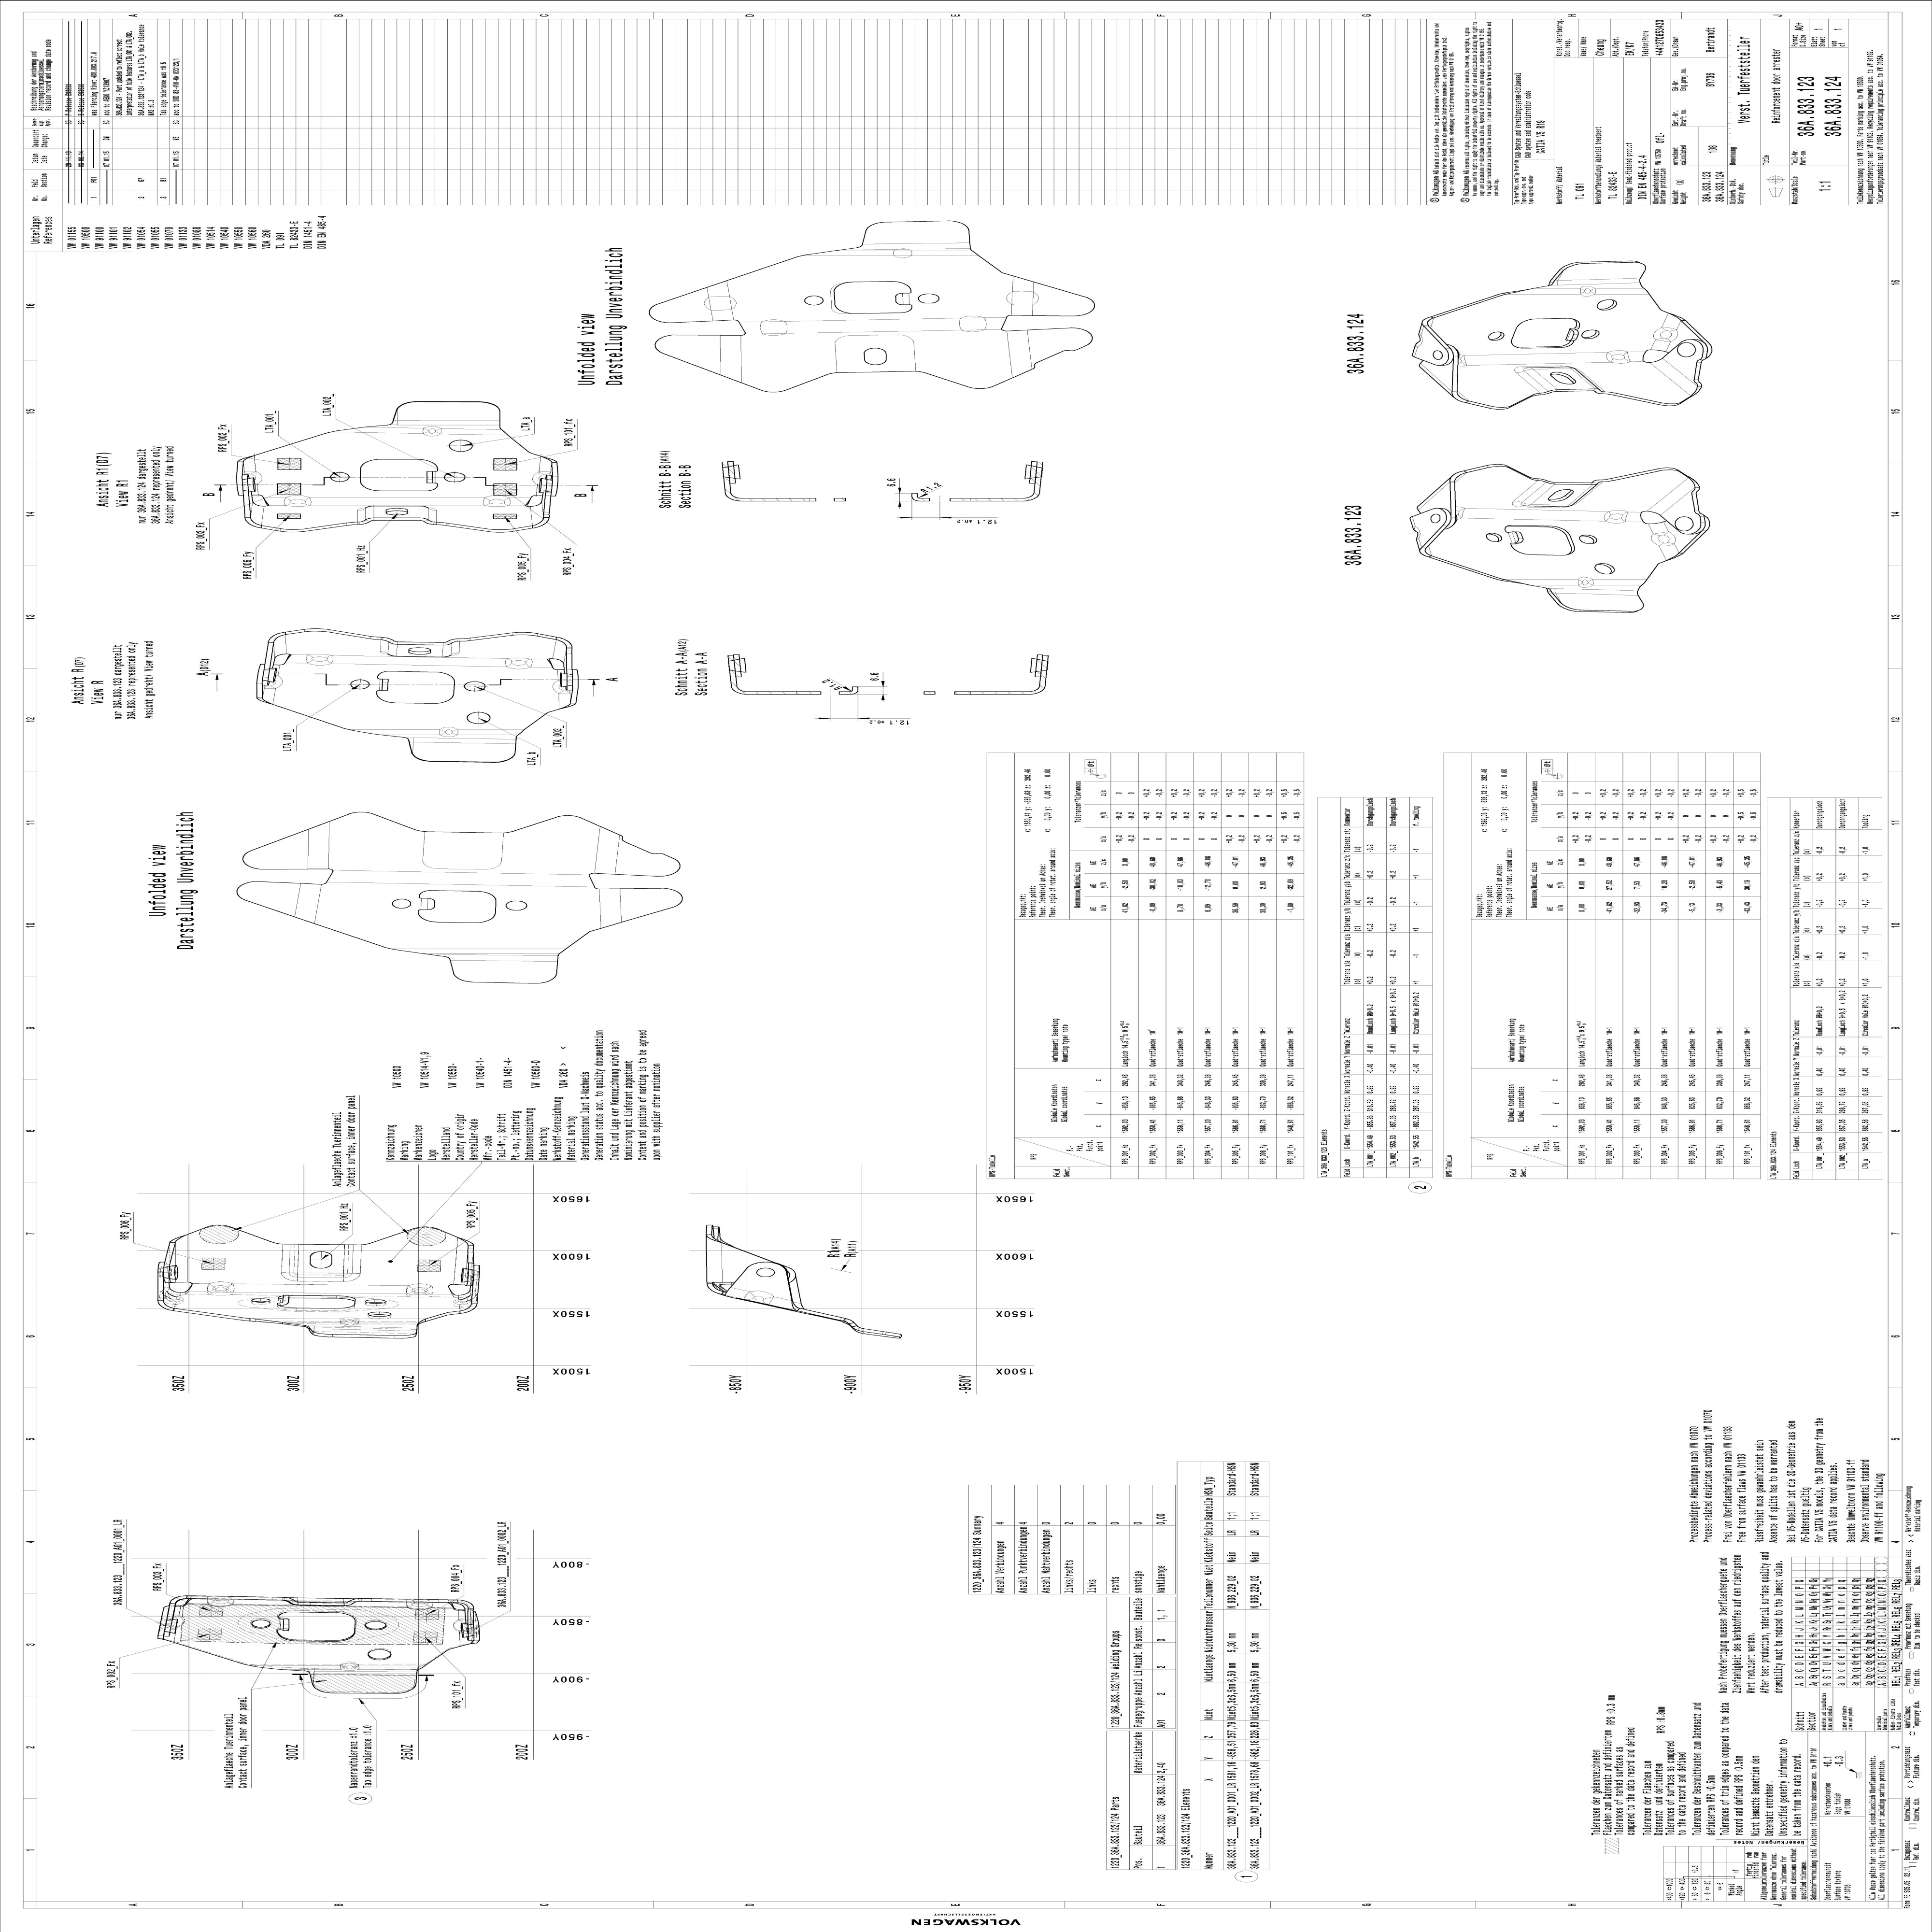BendingEdge: (333, 869, 591, 890), (285, 653, 554, 671), (262, 494, 533, 508), (1461, 350, 1649, 368), (740, 318, 1005, 331), (188, 1283, 451, 1295), (1460, 506, 1644, 524), (1647, 474, 1700, 522), (1649, 352, 1700, 400), (724, 1284, 796, 1313), (1649, 310, 1686, 357), (1647, 517, 1683, 564), (593, 826, 626, 874), (349, 727, 529, 736), (1504, 287, 1651, 297), (336, 426, 510, 435), (594, 888, 626, 934), (1502, 579, 1647, 587), (706, 281, 734, 324), (1008, 331, 1033, 379), (310, 823, 333, 870), (297, 881, 322, 925), (718, 336, 741, 379), (453, 1233, 471, 1286), (172, 1237, 191, 1283), (1014, 276, 1035, 315), (257, 683, 278, 706), (556, 690, 575, 709)
BendingEdgeCurve: (840, 1316, 862, 1332), (531, 515, 550, 531), (242, 515, 264, 529), (1449, 469, 1465, 485), (1421, 315, 1437, 329)
Embossment: (280, 1242, 364, 1283), (1513, 364, 1605, 395), (1511, 479, 1603, 508), (377, 635, 462, 658), (356, 506, 439, 525)
InnerContour: (308, 1249, 334, 1270), (1592, 561, 1617, 577), (448, 437, 472, 453), (363, 1619, 389, 1633), (467, 709, 490, 725), (366, 1649, 395, 1661), (801, 294, 824, 308), (327, 469, 350, 483), (444, 471, 467, 485), (1484, 529, 1504, 545), (916, 292, 941, 304), (504, 899, 529, 911), (464, 679, 485, 694), (1596, 299, 1619, 311), (347, 679, 370, 692), (249, 1619, 272, 1631), (391, 897, 414, 909), (1578, 533, 1598, 547), (1486, 331, 1507, 343), (249, 1297, 272, 1307), (366, 1311, 393, 1320), (1582, 329, 1601, 340), (364, 1297, 387, 1306)
Reinforcement: (743, 1288, 775, 1307), (157, 1290, 186, 1311), (453, 1290, 479, 1311), (405, 1283, 435, 1299), (481, 494, 511, 508), (304, 651, 334, 665), (1651, 531, 1677, 547), (1605, 349, 1631, 364), (283, 494, 311, 508), (504, 656, 533, 671), (203, 1283, 235, 1295), (205, 1596, 235, 1608), (1605, 508, 1628, 524), (1654, 327, 1679, 341), (405, 1598, 433, 1610), (264, 674, 283, 690), (1412, 329, 1426, 350), (554, 678, 570, 695), (451, 1617, 467, 1635), (168, 1614, 186, 1629), (1410, 524, 1424, 543), (439, 725, 460, 738), (338, 1660, 359, 1672), (1576, 575, 1594, 589), (1580, 285, 1598, 299), (244, 471, 262, 485), (338, 1316, 361, 1327), (423, 425, 442, 437), (533, 471, 548, 485), (1454, 504, 1467, 520), (1458, 354, 1467, 366)
